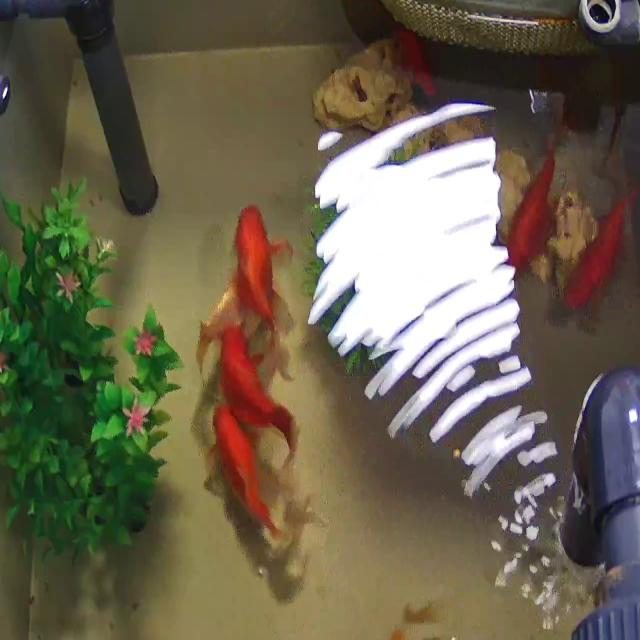fish: (216, 321, 297, 456), (210, 399, 284, 540), (561, 184, 640, 313), (504, 133, 562, 278), (230, 204, 290, 339), (397, 24, 438, 94)
